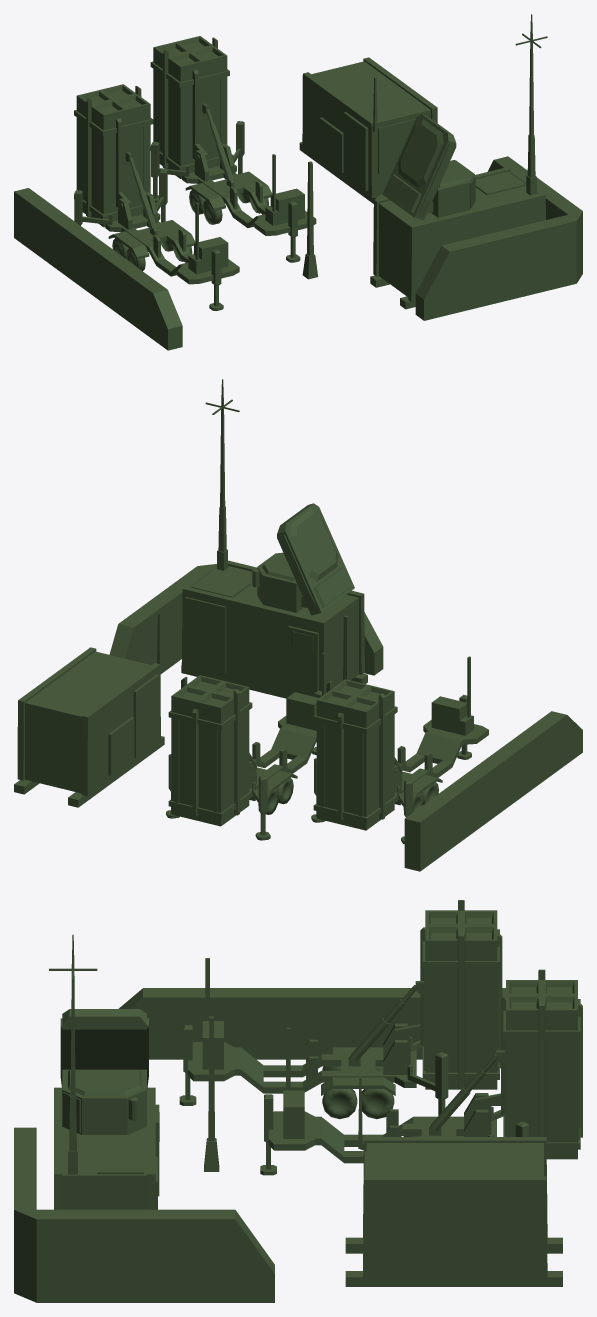
The model's file is Missile Level3.fbx.
3 renders of one model, top to bottom at view 1: azimuth 30°, elevation 25°; view 2: azimuth 150°, elevation 25°; view 3: azimuth 270°, elevation 25°, orthographic. The views are drawn at different scales.
Parts seen in each view (by area): view 1: Missile Level3; view 2: Missile Level3; view 3: Missile Level3.
Boxes of the visible parts, <box> form: Missile Level3: <box>14,14,582,350</box>; Missile Level3: <box>14,379,582,871</box>; Missile Level3: <box>14,900,582,1302</box>.
Size of the model in its own units: 784 by 497 by 745.
